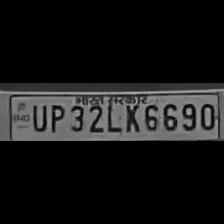0: (198, 101, 216, 131)
2: (86, 100, 104, 134)
3: (67, 100, 85, 132)
6: (140, 100, 158, 132), (160, 100, 178, 132)
9: (178, 100, 198, 132)
K: (122, 100, 140, 134)
L: (104, 99, 120, 134)
P: (46, 100, 64, 134)
U: (29, 102, 47, 132)
